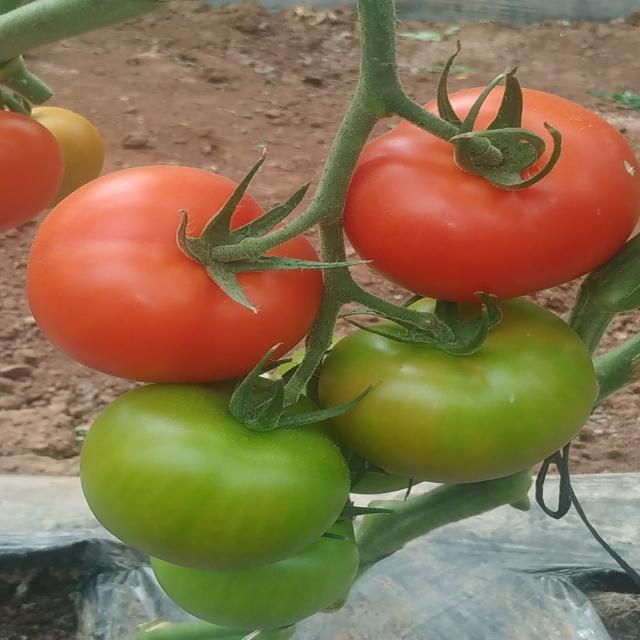Ripe Tomato: (352, 79, 636, 302), (35, 168, 324, 382), (0, 112, 51, 226)
Unripe Tomato: (77, 384, 356, 554), (340, 298, 598, 477), (146, 548, 361, 624), (36, 104, 106, 204)
